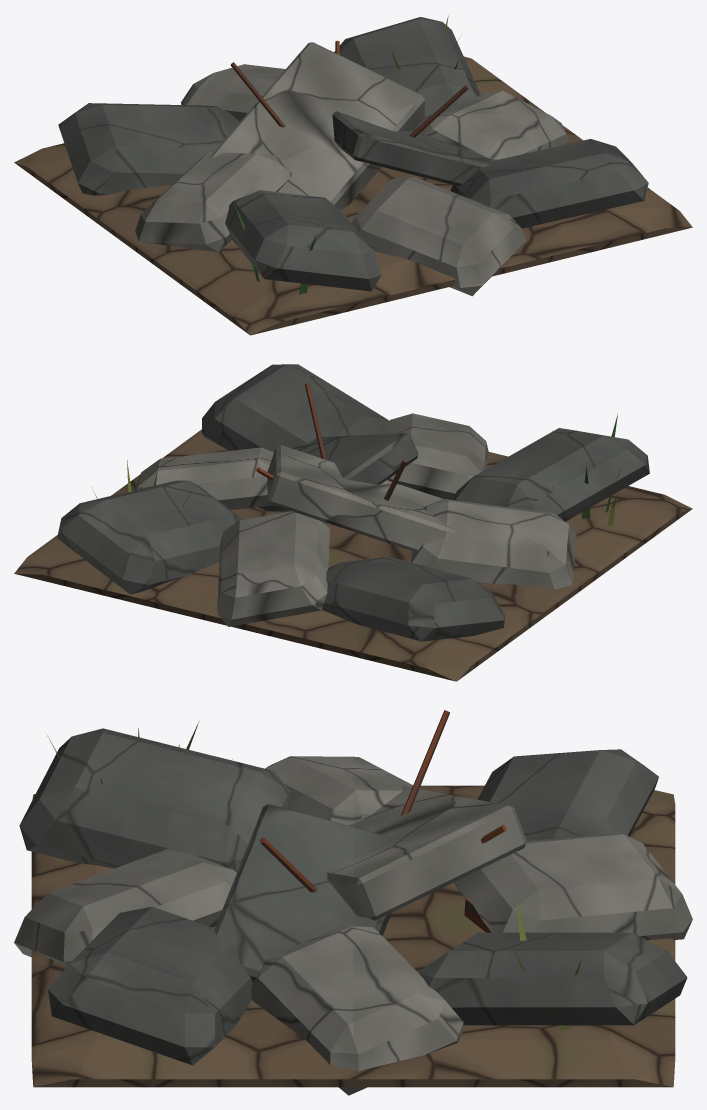
Rendered from env_rubble_crater.glb.
3 renders of one model, top to bottom at view 1: azimuth 30°, elevation 25°; view 2: azimuth 150°, elevation 25°; view 3: azimuth 270°, elevation 25°, orthographic. The views are drawn at different scales.
Parts seen in each view (by area): view 1: Env_rubble_crater; view 2: Env_rubble_crater; view 3: Env_rubble_crater.
Boxes of the visible parts, x1=… form: Env_rubble_crater: x1=14, y1=15, x2=692, y2=335; Env_rubble_crater: x1=14, y1=364, x2=692, y2=681; Env_rubble_crater: x1=14, y1=710, x2=692, y2=1095.
Bounding box in the file's own units: 2.67 × 0.8406 × 2.61.
7 materials, 7 textured.
